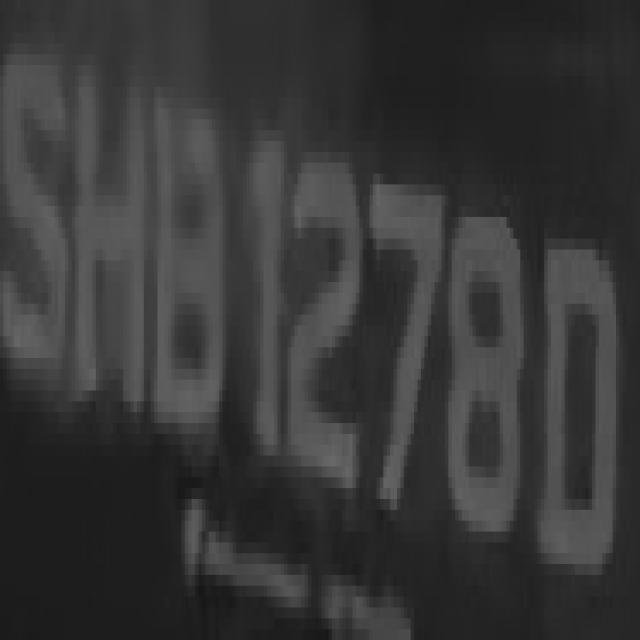1: (232, 87, 280, 477)
2: (277, 87, 370, 542)
7: (360, 119, 456, 564)
8: (438, 152, 517, 553)
B: (147, 65, 226, 467)
D: (530, 185, 623, 629)
H: (75, 22, 147, 456)
S: (7, 33, 72, 423)
